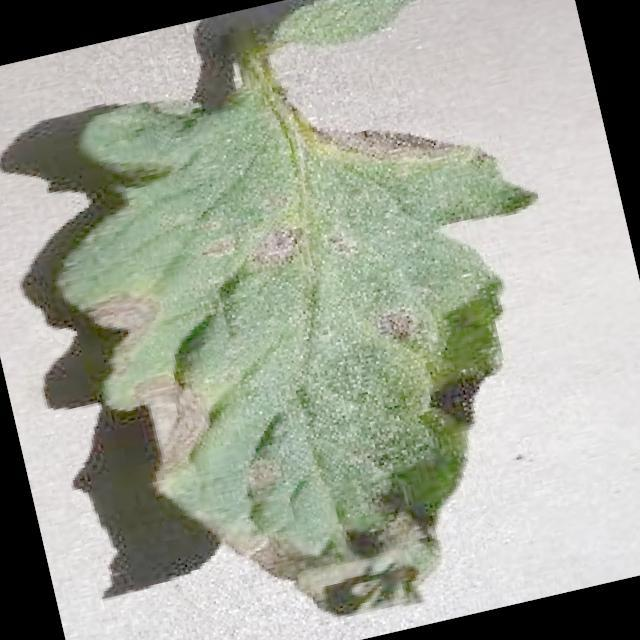Tomato Early blight leaf: (31, 19, 620, 640)
